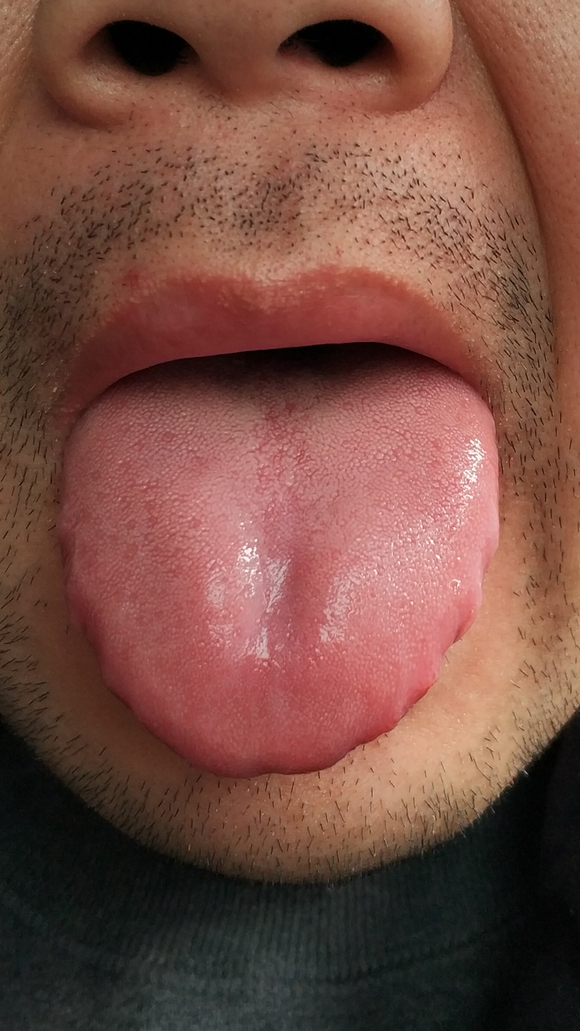chihenshe: (336, 516, 498, 760), (57, 521, 150, 724)
hongshe: (56, 344, 500, 779)
piweiao: (214, 520, 327, 684)
